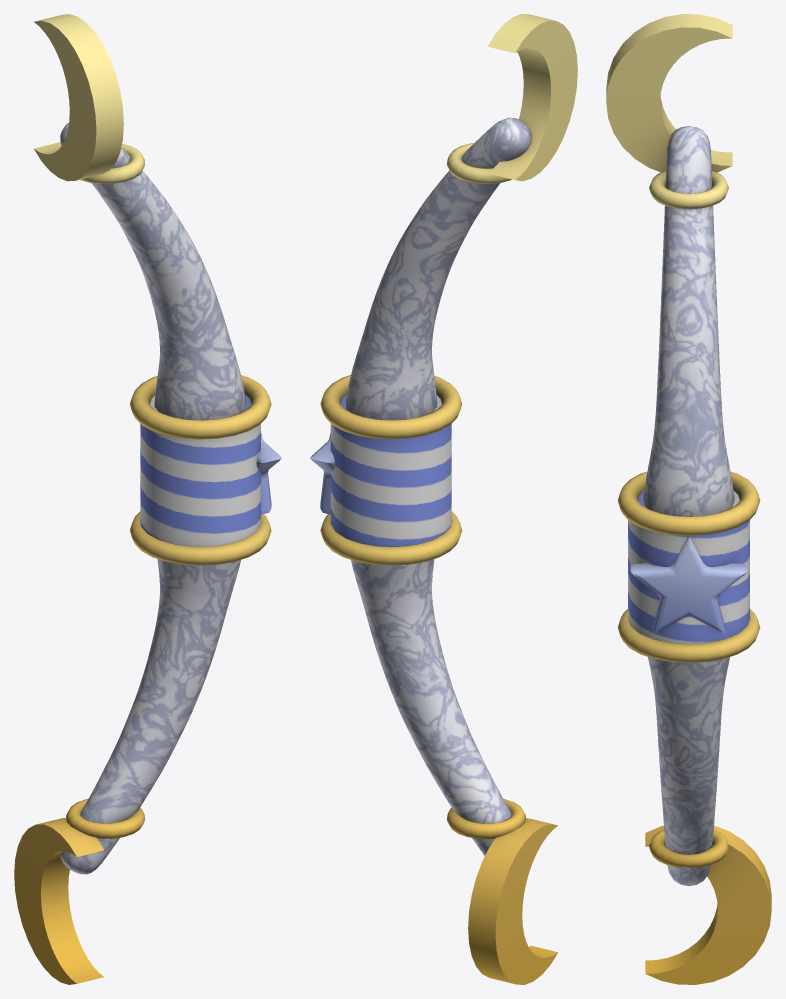
File: Moon Bow.fbx
3 renders of one model, left to right at view 1: azimuth 30°, elevation 25°; view 2: azimuth 150°, elevation 25°; view 3: azimuth 270°, elevation 25°, orthographic.
Visible parts, largest first — view 1: Moon Bow; view 2: Moon Bow; view 3: Moon Bow.
Boxes of the visible parts, <box> form: Moon Bow: <box>14,14,281,984</box>; Moon Bow: <box>310,14,577,984</box>; Moon Bow: <box>606,14,771,984</box>.
Size of the model in its own units: 3.77 by 16.59 by 2.6.
Materials: 1 (1 with a texture image).
